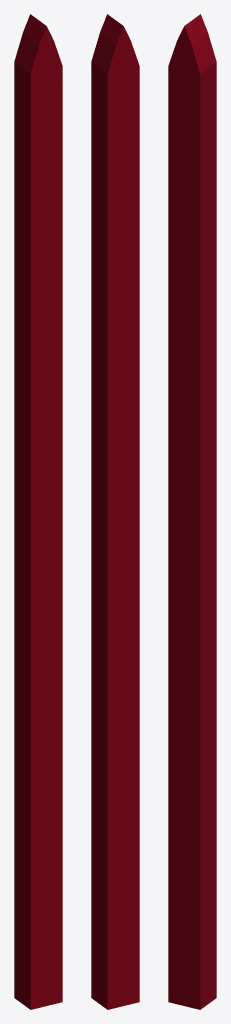
The model's file is Dial.fbx.
3 views of the same model, side by side, from view 1: azimuth 30°, elevation 25°; view 2: azimuth 210°, elevation 25°; view 3: azimuth 330°, elevation 25° (orthographic).
Visible parts, largest first — view 1: Dial; view 2: Dial; view 3: Dial.
Boxes of the visible parts, left/top/right/bottom form: Dial: left=14, top=14, right=62, bottom=1009; Dial: left=91, top=14, right=139, bottom=1009; Dial: left=168, top=14, right=216, bottom=1009.
Bounding box in the file's own units: 6.97 × 203 × 6.19.
